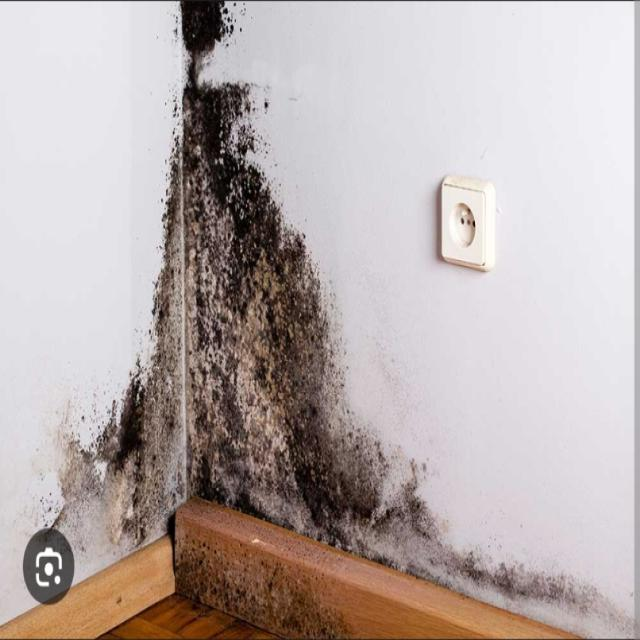mould_on_wall: (139, 69, 611, 618)
wall_leaking: (59, 0, 639, 639)
